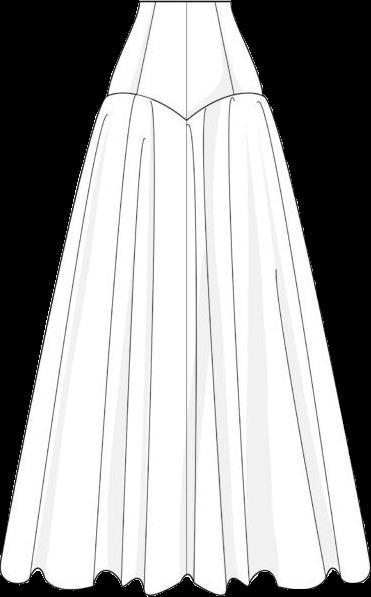Hemline: (0, 567, 370, 596)
Waistline: (105, 90, 262, 123), (136, 0, 234, 7)
